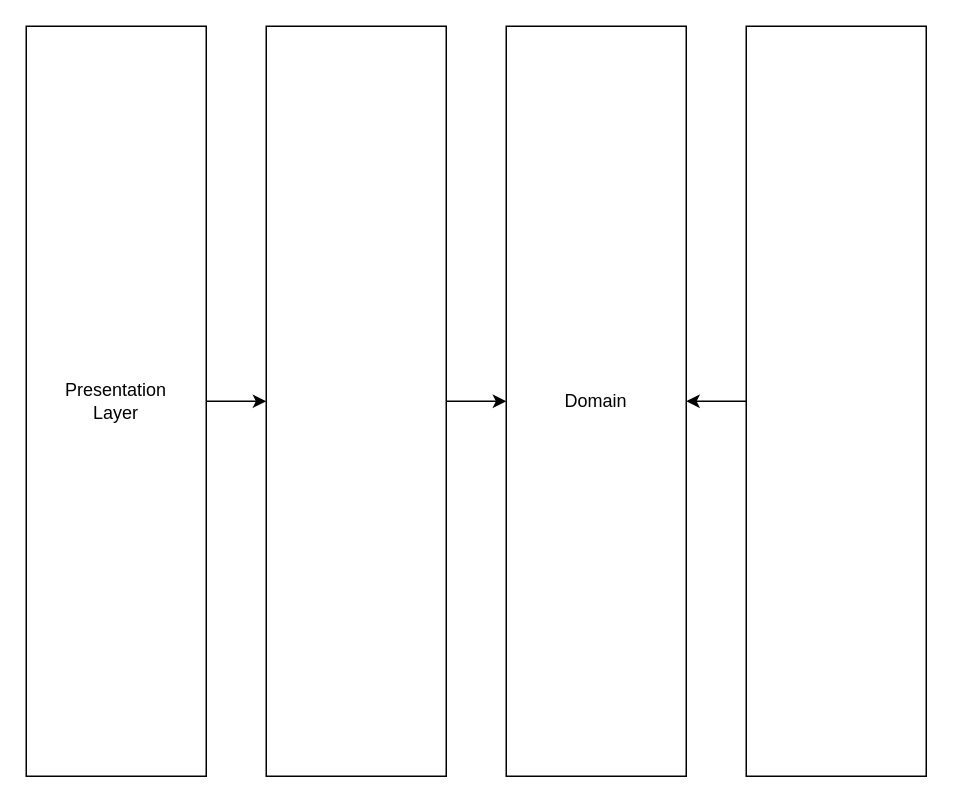
Image size: 953x803. Some labels were removed from this diagram. Here are the shapes that lost their labels. From the top down, the box of each, then its label:
(265, 25, 446, 776): Services
(745, 25, 926, 776): Data
